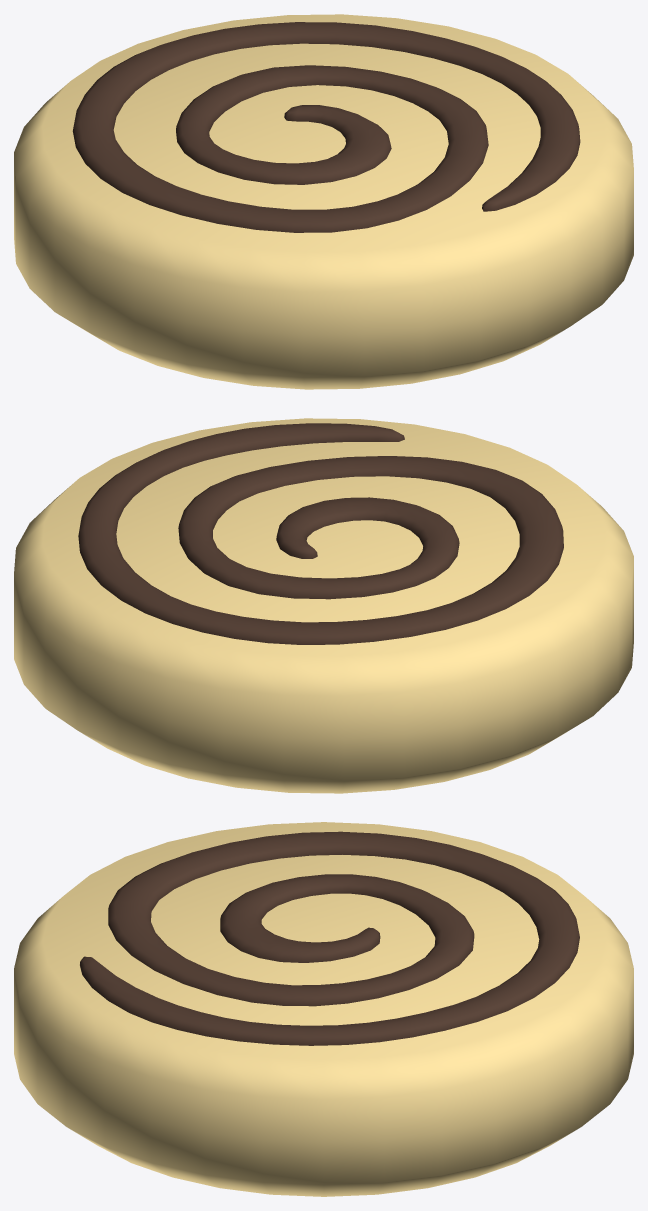
File: sweet_brown.fbx
3 renders of one model, top to bottom at view 1: azimuth 30°, elevation 25°; view 2: azimuth 150°, elevation 25°; view 3: azimuth 270°, elevation 25°, orthographic.
Visible parts, largest first — view 1: Cylinder, Plane; view 2: Cylinder, Plane; view 3: Cylinder, Plane.
Part boxes in pixels (x1,y1,x2,y2): Cylinder: (14,14,633,389); Plane: (72,22,580,232); Cylinder: (14,418,633,793); Plane: (78,423,563,644); Cylinder: (14,822,633,1196); Plane: (80,831,579,1045).
Size of the model in its own units: 0.3016 by 0.0859 by 0.3016.
